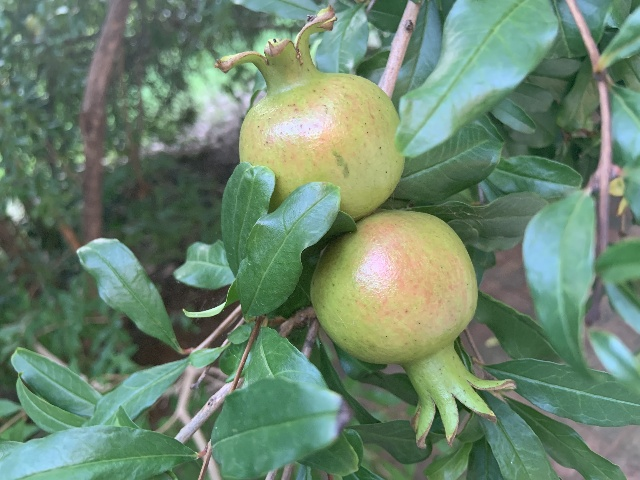mid-growth: (309, 210, 517, 447), (214, 5, 404, 220)
